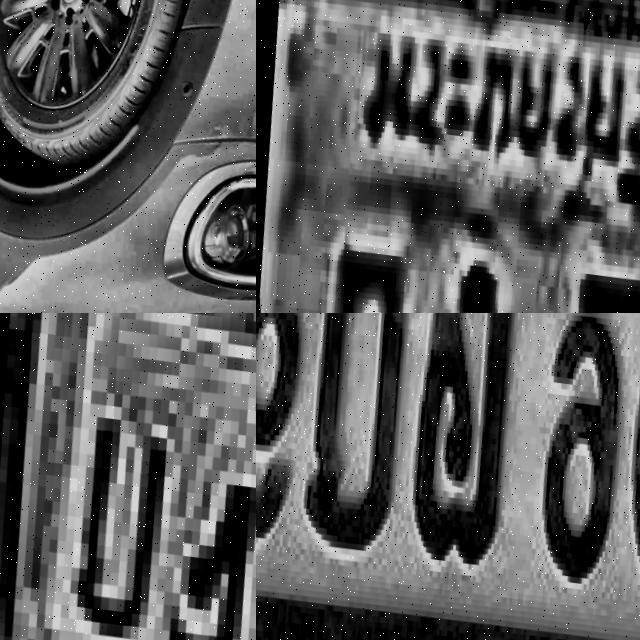license-plate: (256, 313, 640, 640), (256, 0, 640, 313), (0, 313, 256, 640)
